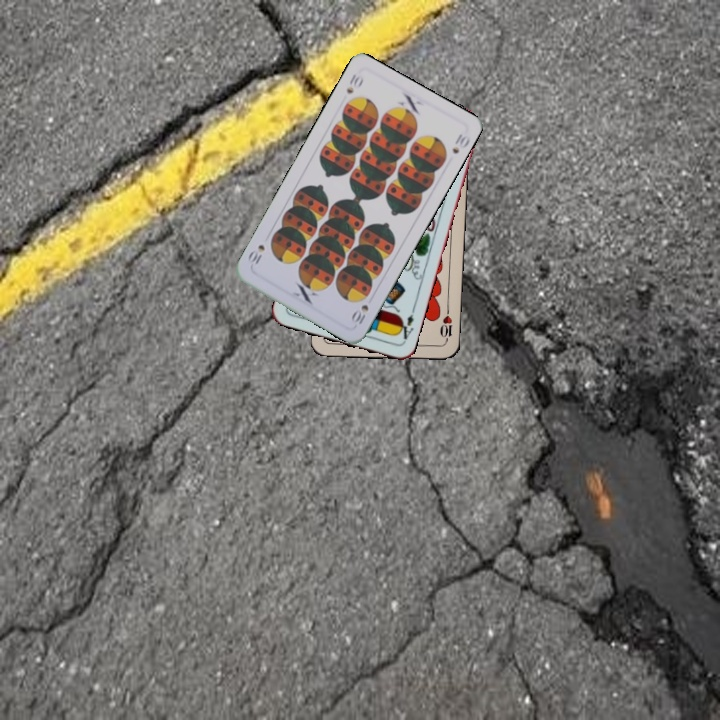EA: (393, 310, 416, 344)
H10: (436, 305, 455, 345)
S10: (347, 300, 371, 327), (342, 70, 366, 96)
